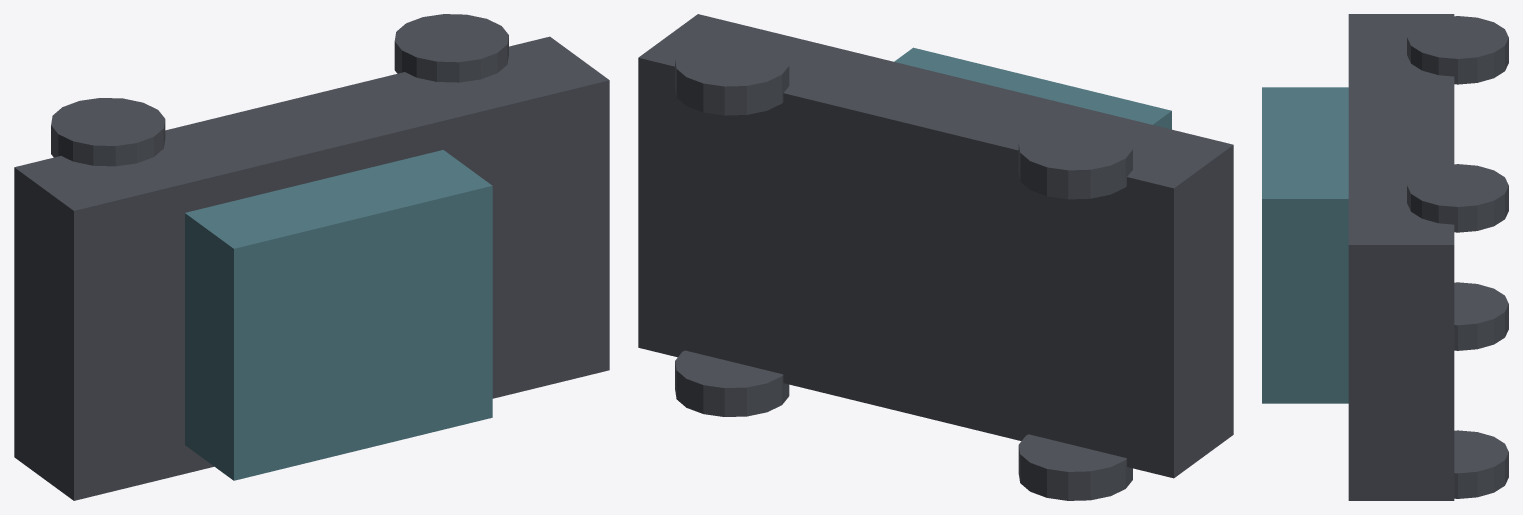
File: car_prop_v03.glb
3 renders of one model, left to right at view 1: azimuth 30°, elevation 25°; view 2: azimuth 150°, elevation 25°; view 3: azimuth 270°, elevation 25°, orthographic. The views are drawn at different scales.
Visible parts, largest first — view 1: box_0, box_1, cylinder_5, cylinder_3; view 2: box_0, cylinder_5, cylinder_3, cylinder_2, cylinder_4, box_1; view 3: box_0, box_1, cylinder_5, cylinder_3, cylinder_2, cylinder_4.
Boxes of the visible parts, x1,y1,x2,y2 form: box_0: (14, 36, 609, 500); box_1: (185, 150, 492, 480); cylinder_5: (394, 14, 508, 82); cylinder_3: (51, 98, 165, 166); box_0: (638, 14, 1233, 478); cylinder_5: (675, 38, 789, 115); cylinder_3: (1018, 122, 1132, 199); cylinder_2: (1018, 434, 1132, 500); cylinder_4: (675, 350, 789, 416); box_1: (894, 47, 1171, 129); box_0: (1348, 14, 1454, 500); box_1: (1262, 87, 1348, 403); cylinder_5: (1407, 164, 1508, 232); cylinder_3: (1407, 16, 1508, 84); cylinder_2: (1454, 282, 1508, 350); cylinder_4: (1454, 430, 1508, 498).
Size of the model in its own units: 2.9 by 1.71 by 1.31.
